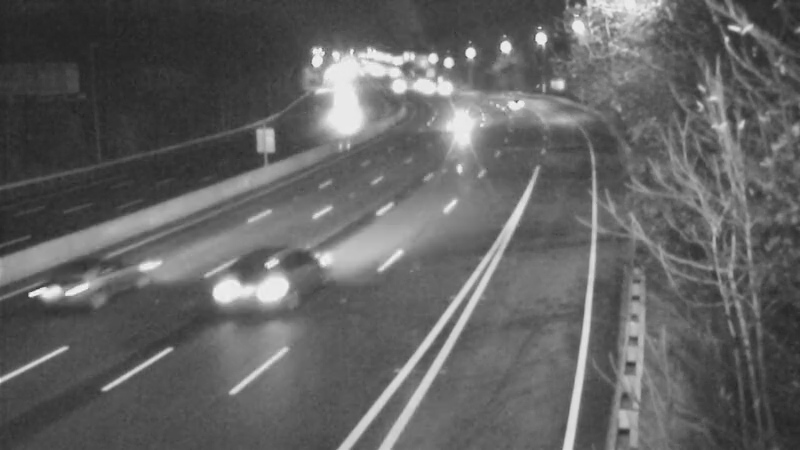vehicle: (199, 248, 309, 358), (19, 245, 99, 325), (416, 62, 466, 112), (371, 62, 421, 112), (484, 75, 534, 125), (429, 97, 479, 147), (318, 93, 368, 143)
